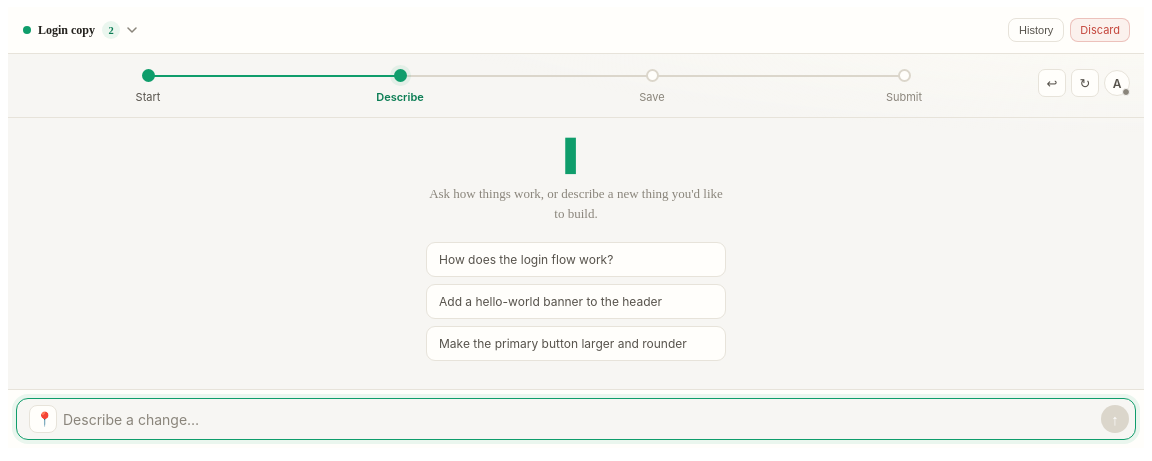
Test: Panel › change switcher › + New change starts a fresh change and says when it couldn't fetch the latest
Click the button with aria-label "your changes — login copy".
click(67, 30)  # box [16,16,792,44]
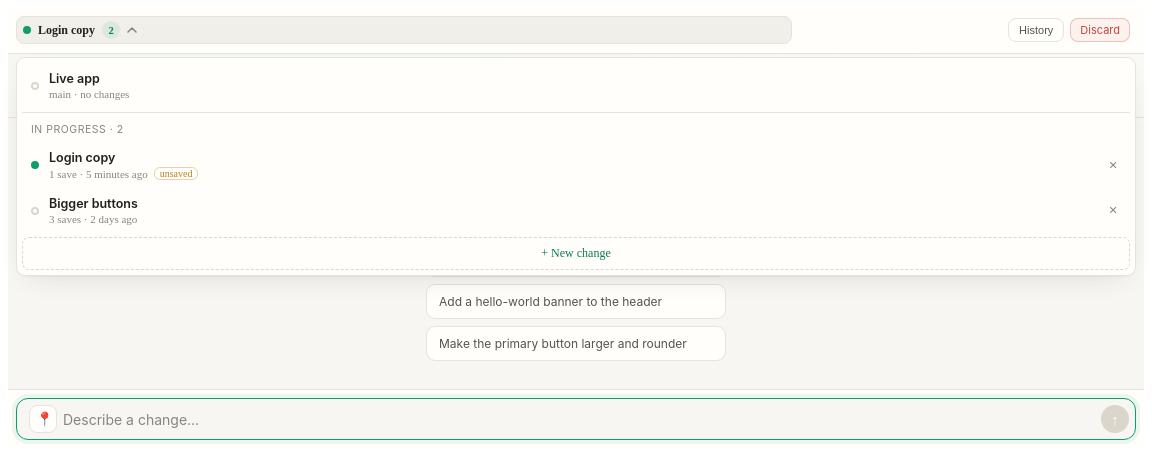
Click the menu item "+ New change".
click(576, 254)  # box [22,237,1130,270]
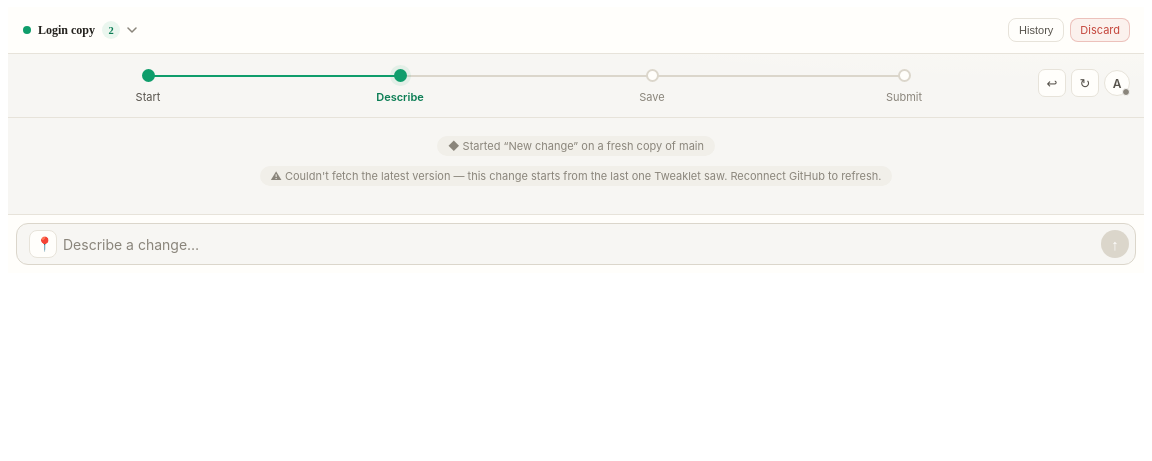
Expected: the text "◆ Started “New change” on a fresh copy of main" is shown, [437,136,715,156]
Expected: the text "Couldn't fetch the latest version" is shown, [270,169,881,183]
